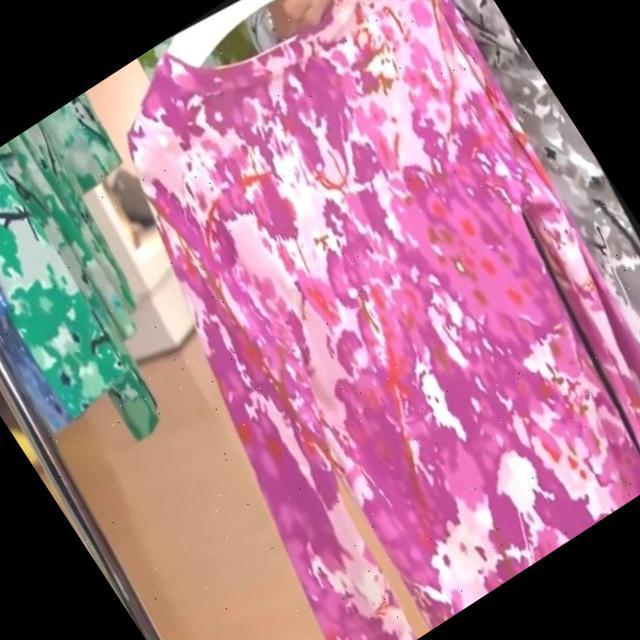person: (181, 0, 640, 565)
